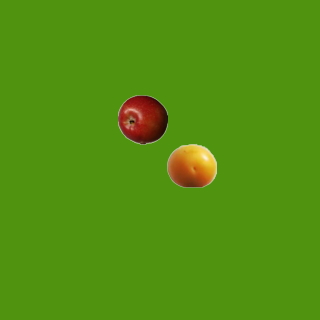Apple Braeburn: (117, 94, 167, 144)
Cherry Wax Yellow: (166, 140, 216, 190)
